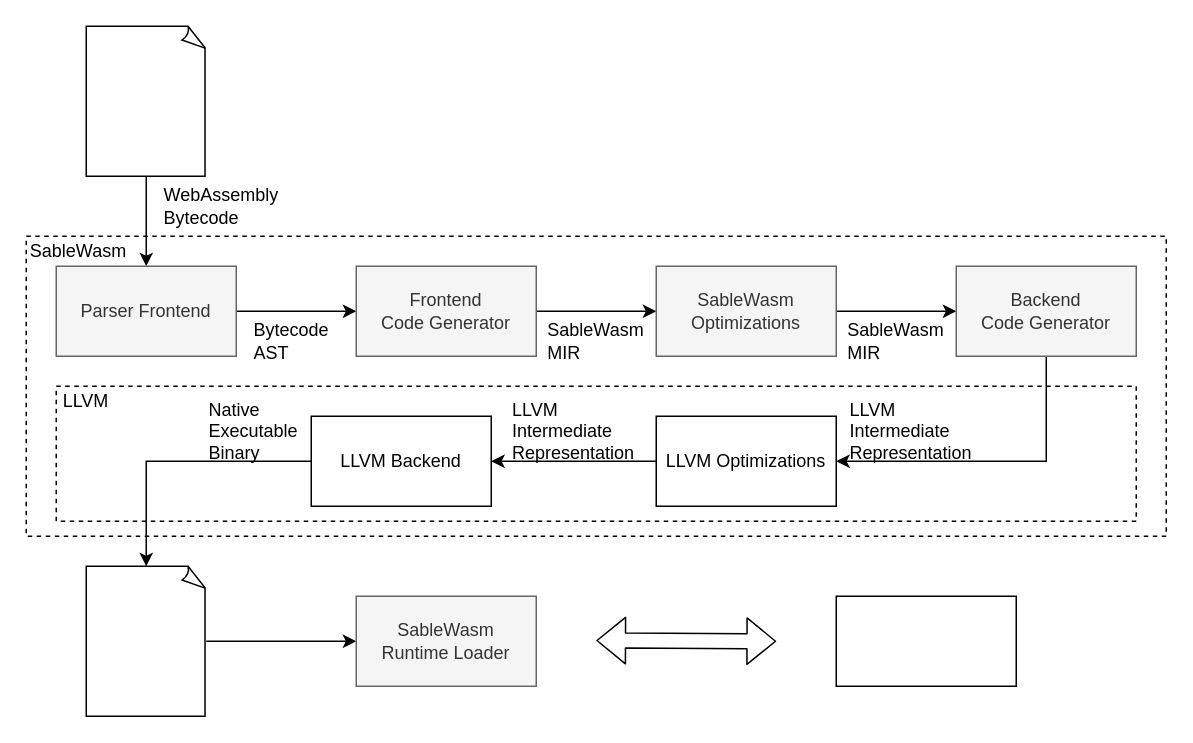
The diagram is 1193 pixels wide and 743 high, and some of its shapes have lost their labels. The shapes that lost their labels are listed below. From the top down, each one's centre as x and y in pixels, then its label:
At point (145, 100): "WebAssmebly Module (.wasm)".
At point (145, 640): "Shared Libraries (.so)".
At point (925, 640): "Host Program".
